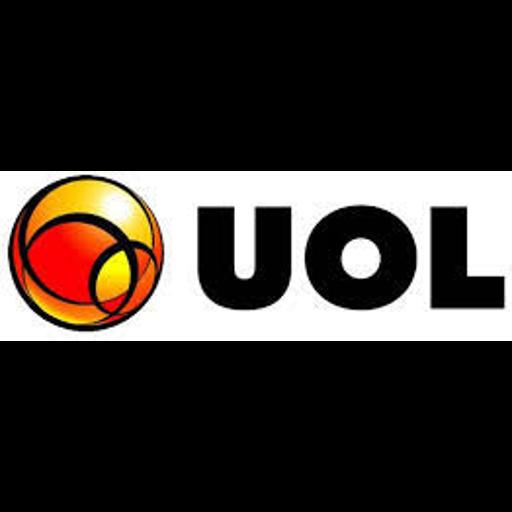Universo Online: (0, 171, 512, 341)
